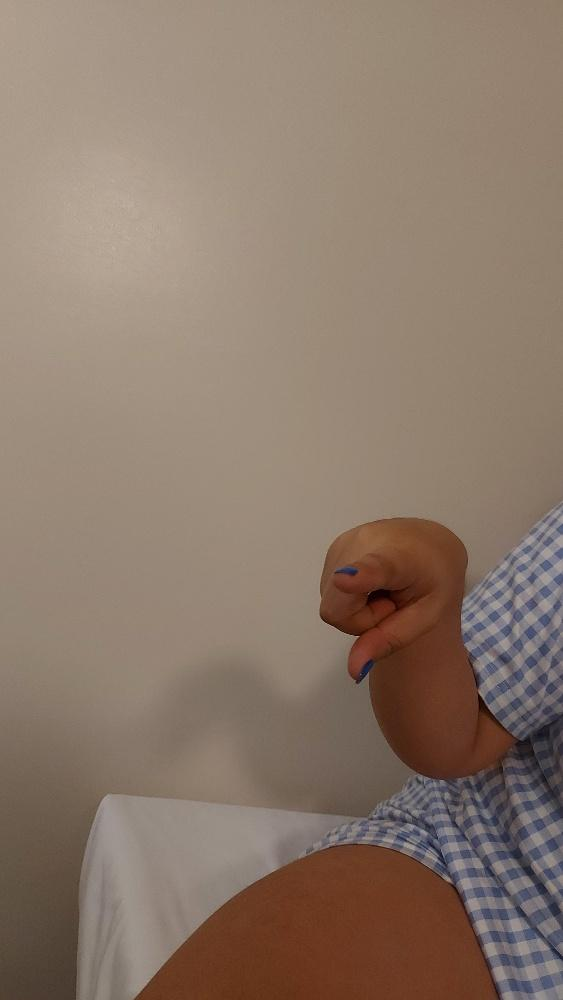z: (316, 514, 470, 687)
